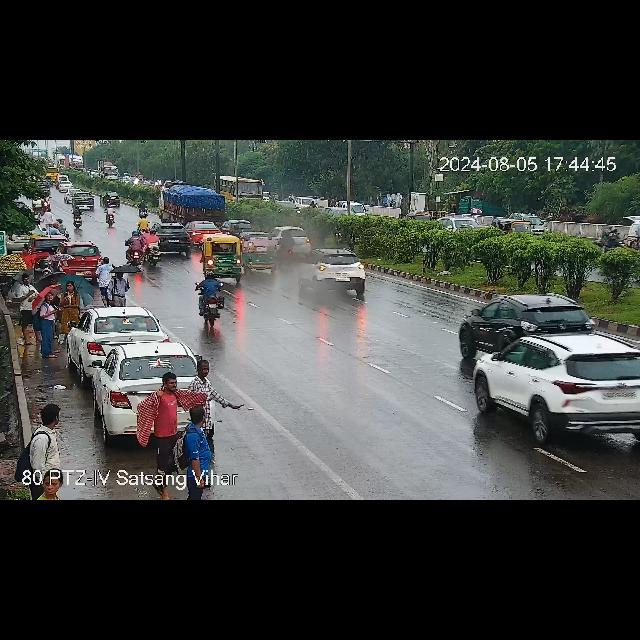bus: (217, 175, 269, 201)
car: (468, 329, 640, 447), (75, 336, 205, 439), (68, 306, 172, 378), (466, 292, 592, 342), (46, 242, 104, 276), (312, 248, 364, 280), (210, 237, 244, 281), (240, 234, 278, 272), (490, 213, 536, 241), (150, 222, 192, 252), (270, 227, 312, 256), (438, 210, 479, 238), (326, 198, 366, 220), (186, 222, 222, 242), (403, 208, 432, 228), (221, 220, 253, 237), (70, 192, 96, 210), (101, 188, 123, 206)
motorcycle: (192, 272, 224, 336), (142, 228, 162, 268), (125, 230, 144, 264), (136, 198, 150, 220), (103, 206, 117, 224)
person: (134, 370, 218, 490), (19, 398, 69, 498), (18, 270, 40, 350), (38, 290, 62, 362), (107, 268, 133, 306), (62, 278, 78, 329)
truck: (163, 185, 230, 229)
